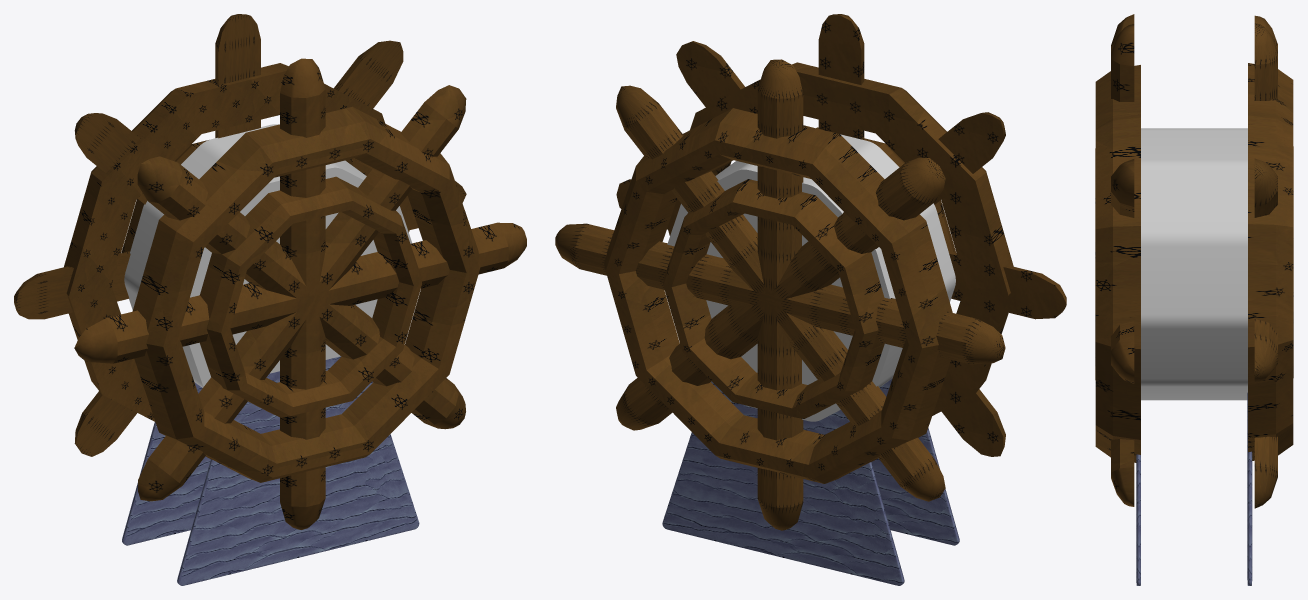
The model's file is Winch.fbx.
3 renders of one model, left to right at view 1: azimuth 30°, elevation 25°; view 2: azimuth 150°, elevation 25°; view 3: azimuth 270°, elevation 25°, orthographic.
Visible parts, largest first — view 1: polySurface24, polySurface25, pCube2, pCylinder1, pCube3; view 2: polySurface25, polySurface24, pCube3, pCylinder1, pCube2; view 3: pCylinder1, polySurface25, polySurface24, pCube3, pCube2.
Boxes of the visible parts, x1,y1,x2,y2 form: polySurface24: (74,58,526,529); polySurface25: (14,14,466,456); pCube2: (177,356,419,585); pCylinder1: (124,124,411,387); pCube3: (122,382,210,545); polySurface25: (555,59,1005,530); polySurface24: (616,14,1066,456); pCube3: (662,381,904,585); pCylinder1: (667,134,955,421); pCube2: (871,378,959,545); pCylinder1: (1141,128,1247,400); polySurface25: (1248,15,1293,508); polySurface24: (1095,14,1140,506); pCube3: (1247,392,1252,585); pCube2: (1136,454,1140,585).
Bounding box in the file's own units: 7.42 × 7.84 × 2.8.
